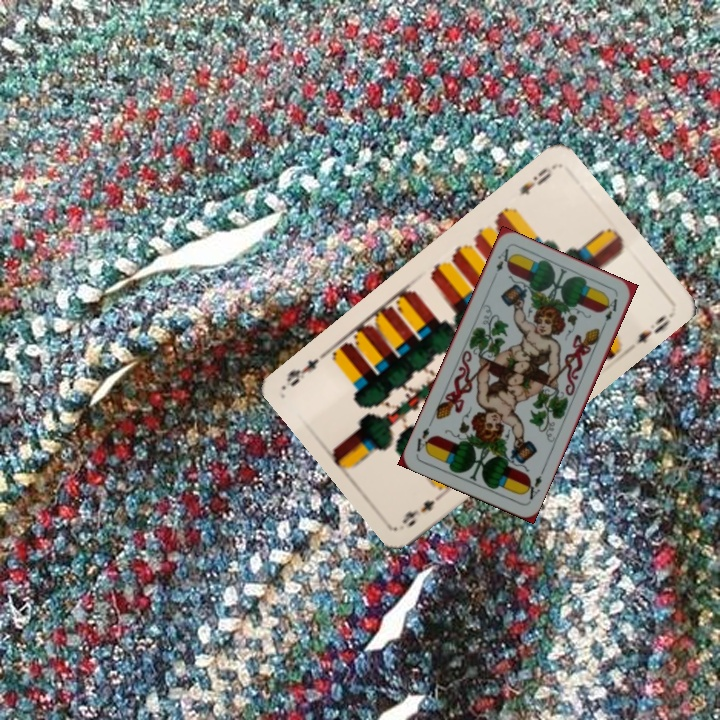E9: (398, 483, 448, 530), (516, 162, 557, 198)
EA: (489, 244, 514, 283), (520, 466, 547, 502)
